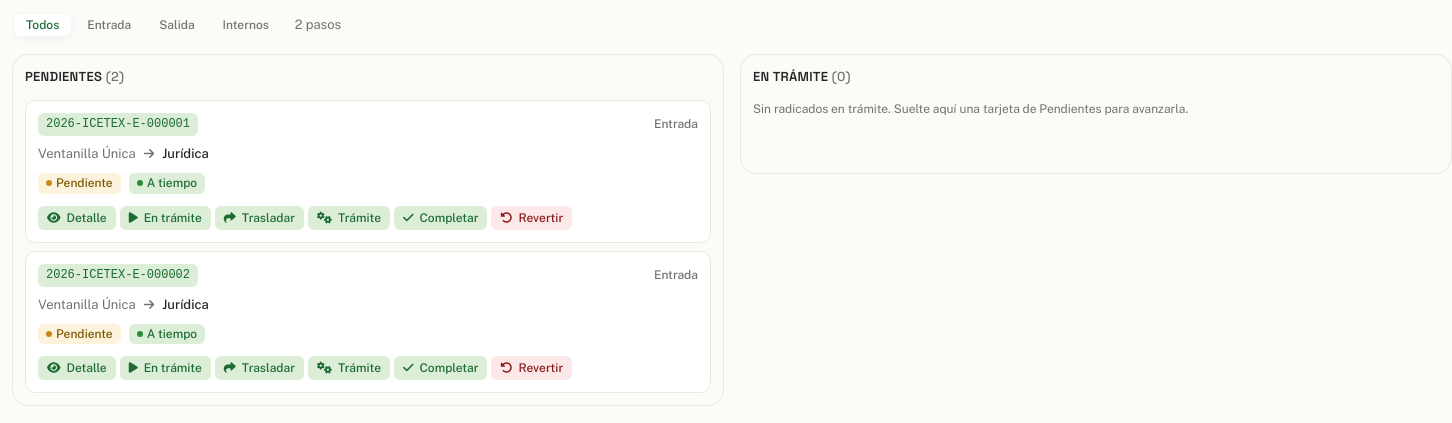
WorkflowBoard — I10 (revisión UX): una acción en vuelo bloquea TODAS las tarjetas visiblemente › mientras 'Completar' de una tarjeta está en vuelo, las acciones de las DEMÁS tarjetas quedan deshabilitadas
The image size is (1452, 423).
Check: the text "2026-ICETEX-E-000002" is shown, box [38, 264, 198, 287]
Click the button "Completar" below "2026-ICETEX-E-000001".
click(441, 218)  # box [394, 206, 488, 230]
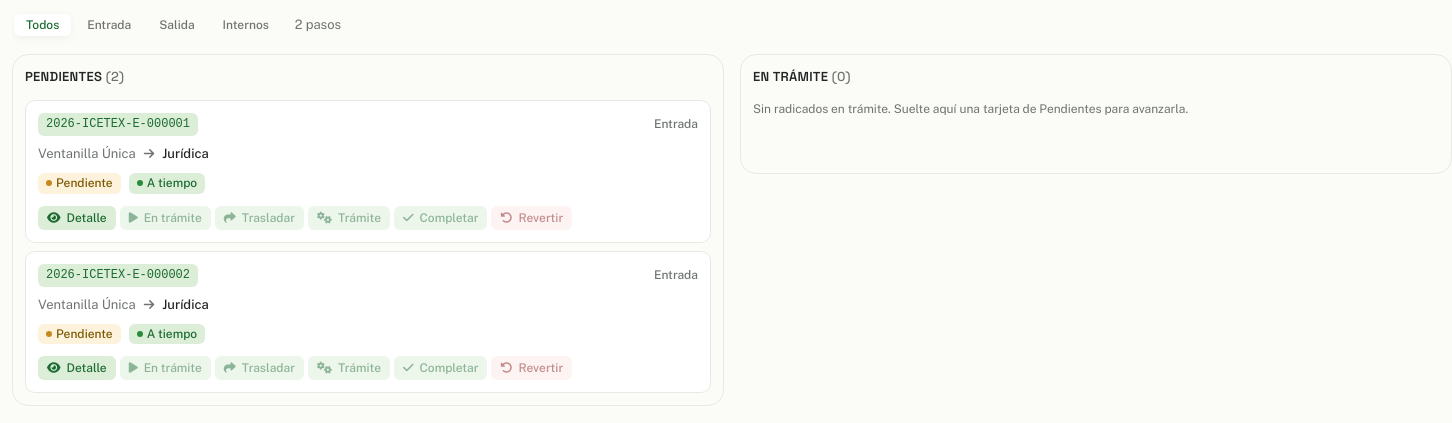
Check: the button "Completar" below "2026-ICETEX-E-000002" is disabled, box [394, 356, 488, 380]
Check: the button "Trasladar" below "2026-ICETEX-E-000002" is disabled, box [215, 356, 304, 380]
